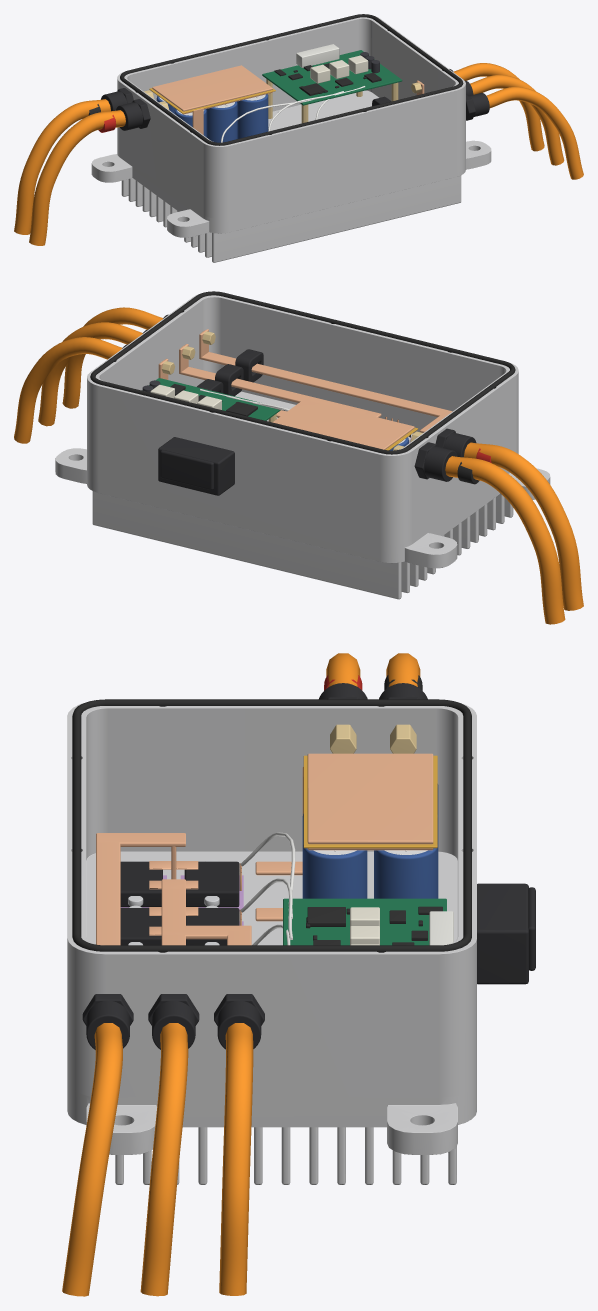
File: controller.glb
3 renders of one model, top to bottom at view 1: azimuth 30°, elevation 25°; view 2: azimuth 150°, elevation 25°; view 3: azimuth 270°, elevation 25°, orthographic. The views are drawn at different scales.
Visible parts, largest first — view 1: controller__housing, controller__power_cables, controller__heat_sink_fins, controller__lid_gasket, controller__dc_busbar_negative, controller__gate_driver_pcb, controller__dc_link_capacitors, controller__cable_glands, controller__isolation_transformers, controller__pcb_header, controller__pcb_components, controller__gate_wires (+2 smaller); view 2: controller__housing, controller__power_cables, controller__heat_sink_fins, controller__lid_gasket, controller__phase_busbars, controller__dc_busbar_negative, controller__signal_connector, controller__cable_glands, controller__current_sensors, controller__gate_driver_pcb, controller__isolation_transformers, controller__phase_terminals (+1 smaller); view 3: controller__housing, controller__power_cables, controller__dc_busbar_negative, controller__lid_gasket, controller__phase_busbars, controller__cable_glands, controller__dc_link_capacitors, controller__power_modules, controller__signal_connector, controller__heat_sink_fins, controller__gate_driver_pcb, controller__pcb_components (+7 smaller).
Boxes of the visible parts, box(x1,y1,x2,y2) form: controller__housing: box(91, 16, 491, 237); controller__power_cables: box(14, 63, 583, 245); controller__heat_sink_fins: box(121, 175, 461, 262); controller__lid_gasket: box(120, 14, 463, 145); controller__dc_busbar_negative: box(152, 65, 272, 111); controller__gate_driver_pcb: box(262, 50, 402, 105); controller__dc_link_capacitors: box(156, 94, 268, 142); controller__cable_glands: box(101, 69, 489, 130); controller__isolation_transformers: box(310, 55, 368, 83); controller__pcb_header: box(296, 44, 339, 67); controller__pcb_components: box(274, 63, 381, 95); controller__gate_wires: box(221, 86, 365, 142); controller__housing: box(55, 294, 550, 568); controller__power_cables: box(14, 307, 583, 624); controller__heat_sink_fins: box(92, 491, 513, 599); controller__lid_gasket: box(90, 291, 515, 454); controller__phase_busbars: box(158, 329, 452, 432); controller__dc_busbar_negative: box(272, 399, 414, 449); controller__signal_connector: box(158, 437, 234, 495); controller__cable_glands: box(122, 314, 476, 481); controller__current_sensors: box(197, 349, 263, 396); controller__gate_driver_pcb: box(149, 378, 280, 420); controller__isolation_transformers: box(150, 384, 221, 409); controller__phase_terminals: box(161, 331, 215, 374); controller__housing: box(67, 703, 476, 1154); controller__power_cables: box(62, 653, 420, 1296); controller__dc_busbar_negative: box(307, 753, 433, 844); controller__lid_gasket: box(72, 699, 471, 952); controller__phase_busbars: box(96, 833, 251, 945); controller__cable_glands: box(82, 683, 427, 1049); controller__dc_link_capacitors: box(302, 784, 438, 898); controller__power_modules: box(120, 861, 239, 945); controller__signal_connector: box(477, 883, 535, 984); controller__heat_sink_fins: box(115, 1127, 456, 1184); controller__gate_driver_pcb: box(283, 898, 446, 945); controller__pcb_components: box(306, 906, 442, 945).
Bounding box in the file's own units: 41.06 × 9.81 × 17.34.
